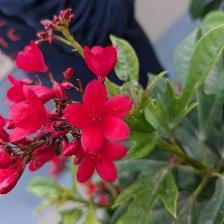jatropha: (65, 79, 134, 154)
